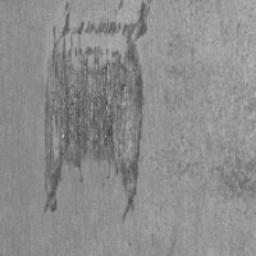Rolled pit: (44, 0, 151, 220), (216, 156, 256, 193)
